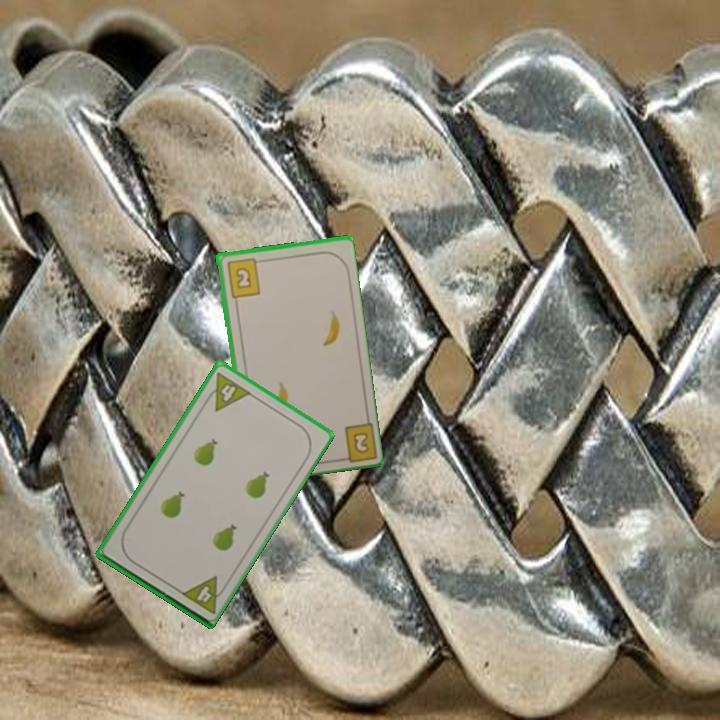2b: (333, 417, 378, 464), (223, 254, 265, 300)
4p: (200, 369, 254, 414), (177, 572, 231, 617)
